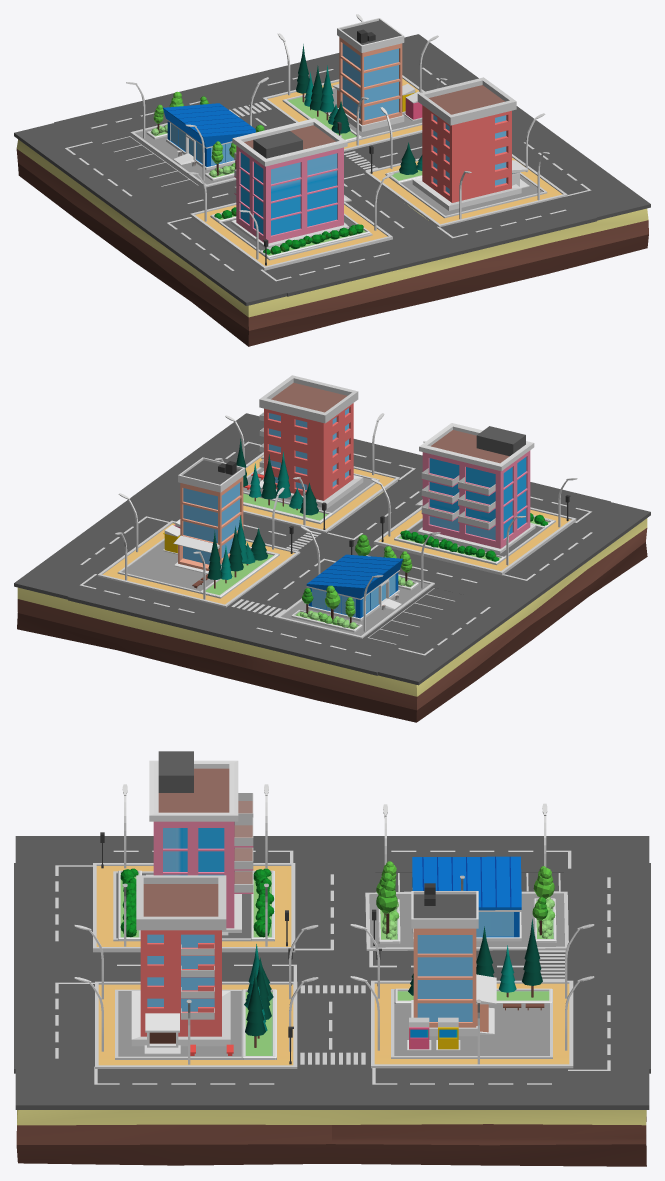
File: City.gltf
The picture shows the model from 3 angles, top to bottom: view 1: azimuth 30°, elevation 25°; view 2: azimuth 150°, elevation 25°; view 3: azimuth 270°, elevation 25°; orthographic projection. The views are drawn at different scales.
Visible parts, largest first — view 1: ROAD, Floor_6, House, House_2, House_3, Shop, Floor, Floor_2, Floor_4_5, Floor_3, Floor_4_2, Floor_4_4 (+4 smaller); view 2: ROAD, Floor_6, House, House_2, House_3, Shop, Floor_3, Floor, Floor_4_3, Floor_4_5, Floor_2, Floor_4_4 (+6 smaller); view 3: ROAD, Floor_6, House_2, House, House_3, Shop, Floor_4_3, Floor_3, Floor_2, Floor, Floor_4_4, Floor_4_2 (+12 smaller).
Boxes of the visible parts, left/top/right/bottom form: ROAD: left=14, top=34, right=650, bottom=305; Floor_6: left=16, top=139, right=648, bottom=346; House: left=231, top=118, right=351, bottom=248; House_2: left=412, top=77, right=529, bottom=210; House_3: left=332, top=18, right=404, bottom=131; Shop: left=163, top=103, right=255, bottom=170; Floor: left=190, top=202, right=392, bottom=270; Floor_2: left=365, top=154, right=567, bottom=227; Floor_4_5: left=101, top=134, right=201, bottom=192; Floor_3: left=262, top=75, right=424, bottom=151; Floor_4_2: left=385, top=172, right=547, bottom=218; Floor_4_4: left=130, top=123, right=236, bottom=187; ROAD: left=14, top=413, right=650, bottom=685; Floor_6: left=17, top=489, right=647, bottom=722; House: left=415, top=423, right=535, bottom=553; House_2: left=259, top=375, right=363, bottom=508; House_3: left=173, top=457, right=245, bottom=573; Shop: left=306, top=554, right=402, bottom=621; Floor_3: left=97, top=520, right=300, bottom=607; Floor: left=373, top=506, right=576, bottom=575; Floor_4_3: left=117, top=538, right=279, bottom=598; Floor_4_5: left=364, top=587, right=463, bottom=645; Floor_2: left=243, top=452, right=399, bottom=533; Floor_4_4: left=276, top=574, right=434, bottom=638; ROAD: left=14, top=836, right=650, bottom=1109; Floor_6: left=16, top=1110, right=646, bottom=1166; House_2: left=131, top=875, right=230, bottom=1054; House: left=146, top=751, right=253, bottom=935; House_3: left=411, top=883, right=496, bottom=1036; Shop: left=412, top=856, right=521, bottom=941; Floor_4_3: left=391, top=989, right=552, bottom=1058; Floor_3: left=371, top=980, right=573, bottom=1068; Floor_2: left=95, top=981, right=297, bottom=1068; Floor: left=93, top=863, right=295, bottom=952; Floor_4_4: left=365, top=891, right=568, bottom=950; Floor_4_2: left=115, top=989, right=276, bottom=1059.
Size of the model in its own units: 21.92 by 7.44 by 21.92.
Materials: 1 (1 with a texture image).
